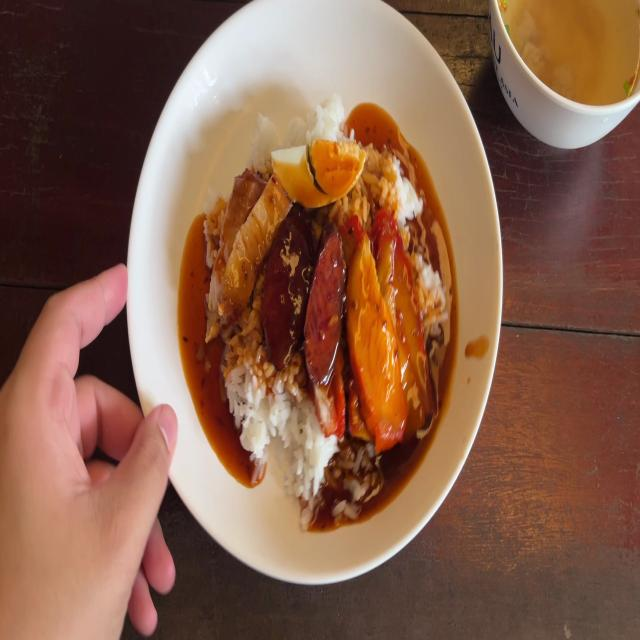01boiled_egg: (273, 139, 364, 205)
01chainese_sausage: (264, 228, 345, 372), (304, 232, 349, 384), (271, 218, 302, 349)
01crispy_pork: (210, 159, 271, 334)
01red_pork: (340, 212, 430, 436), (341, 230, 397, 432), (383, 221, 428, 435)
01red_pork_and_crispy_pork: (201, 102, 443, 515)
01rice: (228, 380, 319, 484), (366, 148, 416, 214), (248, 105, 301, 141), (315, 92, 345, 130)
